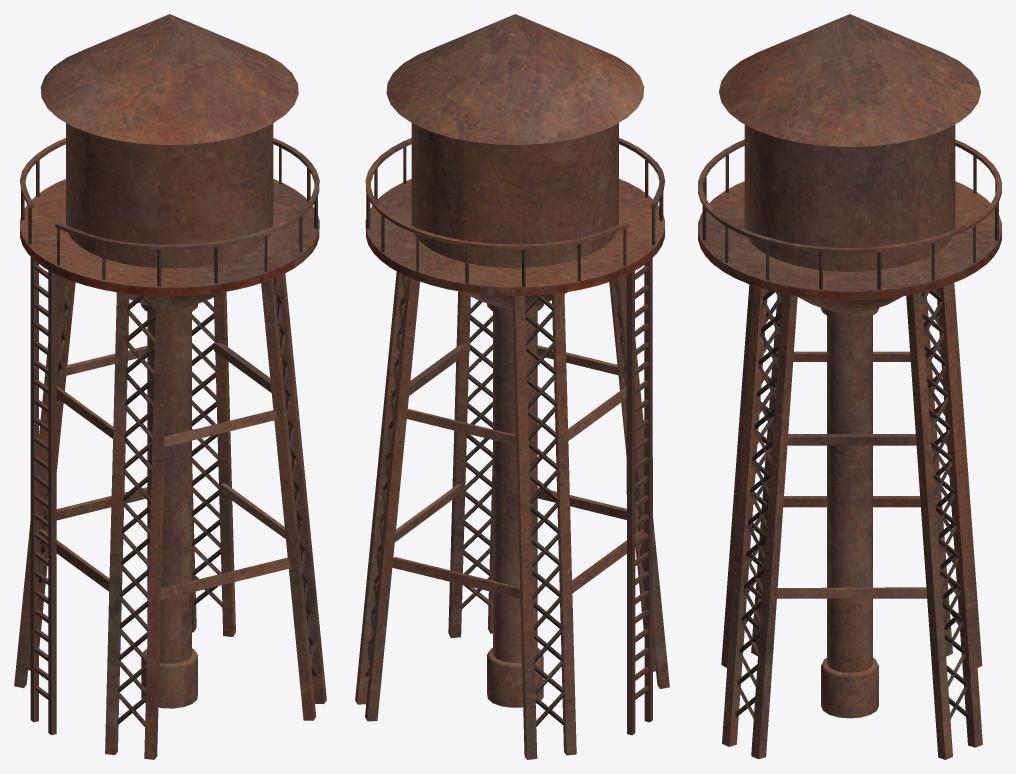
The model's file is Water_Tower.fbx.
3 renders of one model, left to right at view 1: azimuth 30°, elevation 25°; view 2: azimuth 150°, elevation 25°; view 3: azimuth 270°, elevation 25°, orthographic.
Visible parts, largest first — view 1: Cylinder.031; view 2: Cylinder.031; view 3: Cylinder.031.
Part boxes in pixels (bbox=[...]): Cylinder.031: bbox=[14, 14, 326, 759]; Cylinder.031: bbox=[355, 14, 669, 759]; Cylinder.031: bbox=[698, 14, 1001, 759].
Size of the model in its own units: 832 by 2092 by 832.
